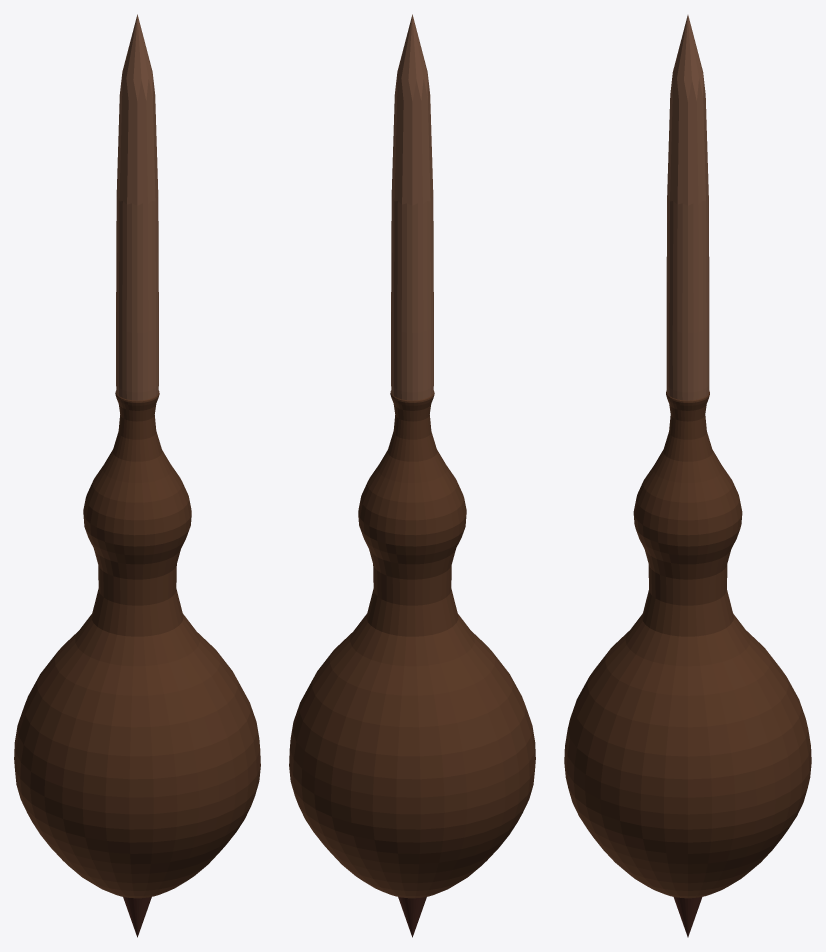
The model's file is Wand 602.glb.
The picture shows the model from 3 angles, left to right: view 1: azimuth 30°, elevation 25°; view 2: azimuth 150°, elevation 25°; view 3: azimuth 270°, elevation 25°; orthographic projection.
Parts seen in each view (by area): view 1: GeneratedWand; view 2: GeneratedWand; view 3: GeneratedWand.
Part boxes in pixels (box(x1,y1,x2,y2)): GeneratedWand: box(14, 14, 260, 937); GeneratedWand: box(289, 14, 535, 937); GeneratedWand: box(564, 15, 811, 937).
Bounding box in the file's own units: 0.123 × 0.5067 × 0.123.
